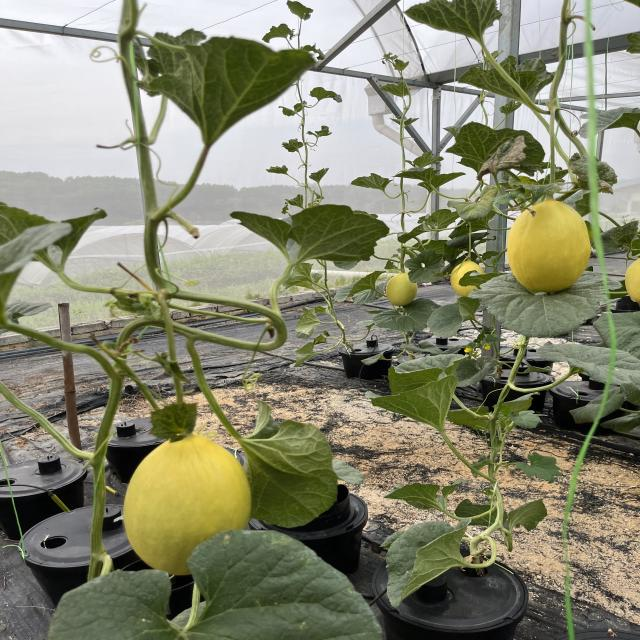CMV: (456, 55, 564, 97)
bacterial wilt: (444, 120, 528, 177)
downy mildew: (60, 541, 383, 640)
healthy: (144, 36, 312, 132), (228, 417, 358, 525), (470, 274, 602, 336), (385, 520, 472, 610), (369, 354, 461, 429), (286, 204, 380, 266), (400, 0, 502, 43), (537, 343, 640, 384), (242, 208, 307, 248), (374, 300, 437, 332), (430, 298, 479, 338), (602, 306, 640, 354), (402, 250, 450, 283), (337, 270, 377, 300)
